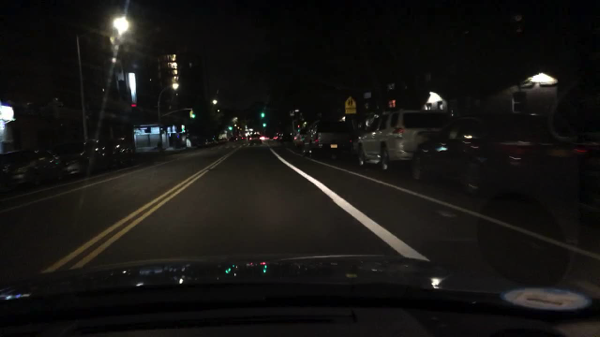car: (410, 114, 559, 199), (351, 108, 449, 173), (0, 145, 64, 195), (568, 140, 599, 221), (52, 137, 109, 178), (301, 118, 352, 159), (102, 137, 137, 169), (293, 129, 307, 148), (248, 132, 263, 146), (279, 131, 293, 142), (272, 131, 282, 141), (229, 135, 239, 141), (239, 135, 244, 140)
traffic light: (189, 111, 195, 119)
traffic sign: (344, 95, 356, 114)
